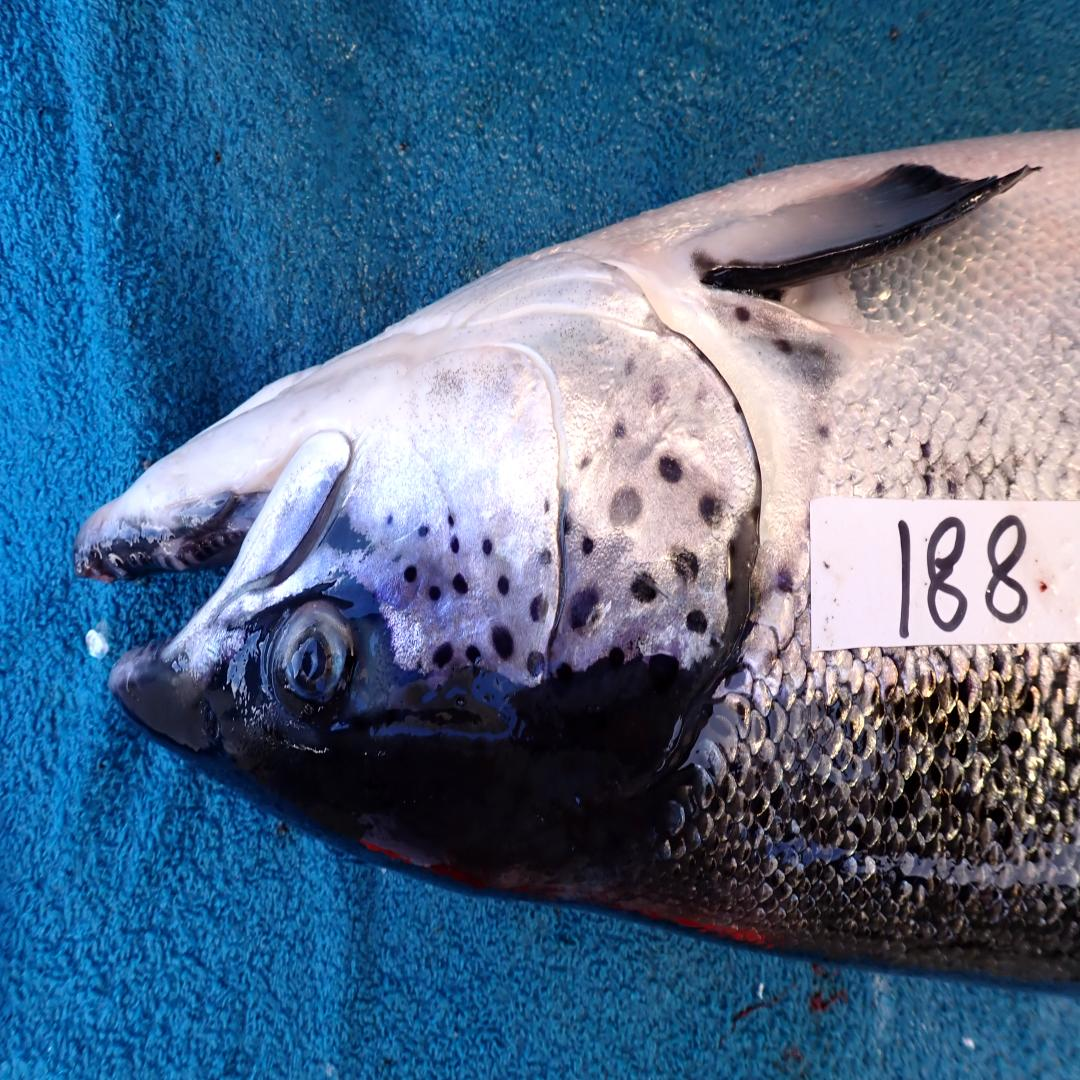roi: (343, 241, 755, 684)
